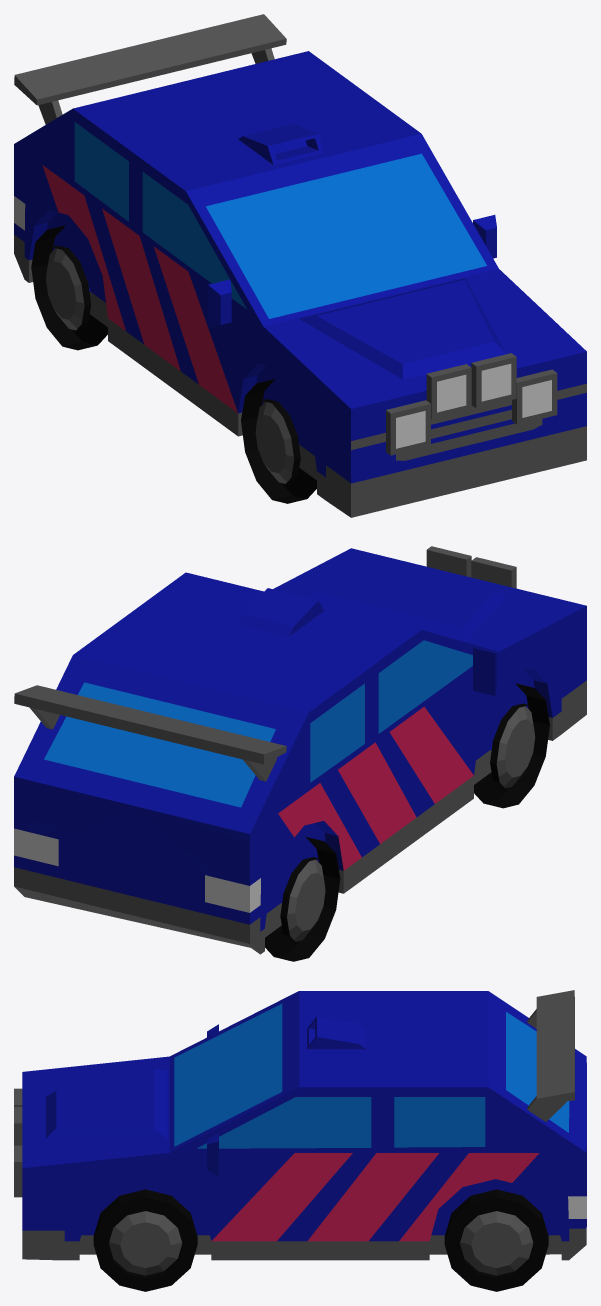
File: Vehicle_01.obj
The picture shows the model from 3 angles, top to bottom: view 1: azimuth 30°, elevation 25°; view 2: azimuth 150°, elevation 25°; view 3: azimuth 270°, elevation 25°; orthographic projection. The views are drawn at different scales.
Visible parts, largest first — view 1: Veh_01_SR_Veh_RalleyCar_Black; view 2: Veh_01_SR_Veh_RalleyCar_Black; view 3: Veh_01_SR_Veh_RalleyCar_Black.
Boxes of the visible parts, box(x1,y1,x2,y2) form: Veh_01_SR_Veh_RalleyCar_Black: box(14, 14, 586, 517); Veh_01_SR_Veh_RalleyCar_Black: box(14, 546, 586, 961); Veh_01_SR_Veh_RalleyCar_Black: box(14, 990, 586, 1291).
Bounding box in the file's own units: 0.2372 × 0.2014 × 0.4897.
